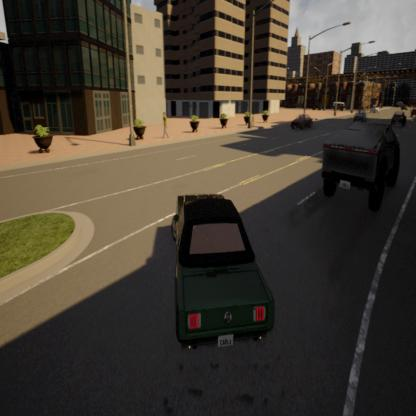Cars: (170, 192, 274, 350), (324, 121, 398, 207), (290, 112, 312, 130), (392, 108, 408, 127), (330, 102, 348, 114), (354, 110, 367, 121), (411, 108, 416, 116)
Pedestrian: (161, 109, 171, 140)
